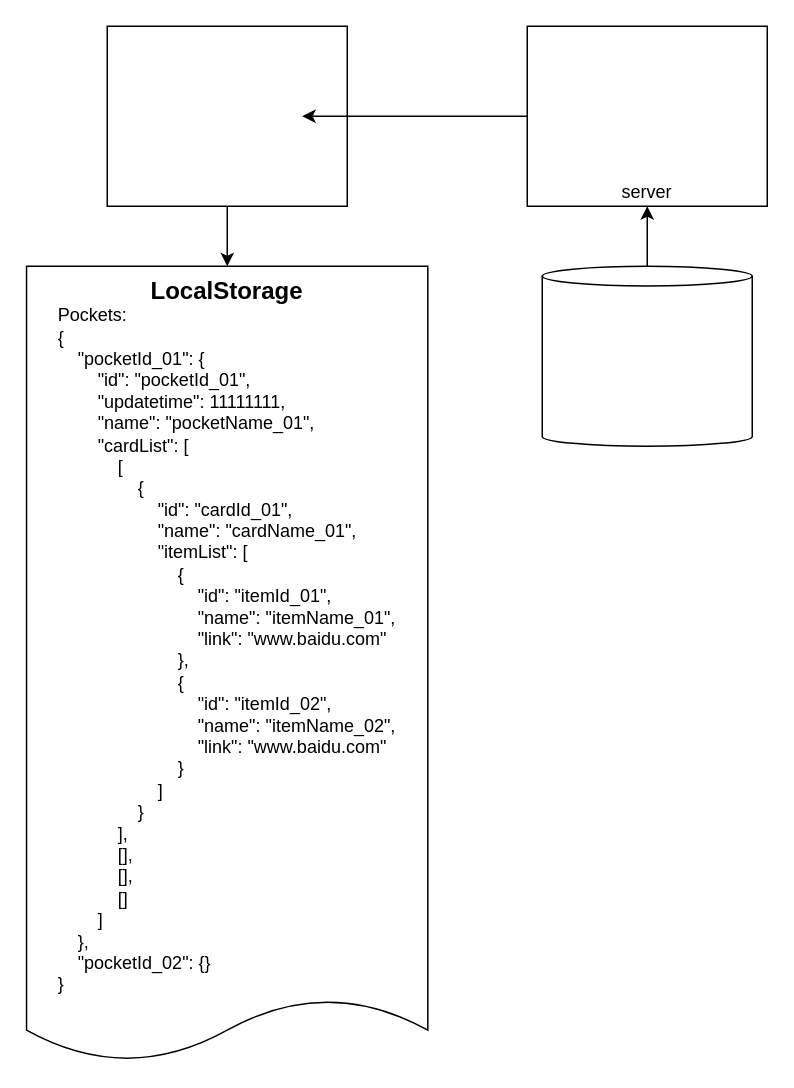
This 794x1088 diagram has some shape labels left out. Each missing label, with the centre of its shape:
browser: the point at 226,115
MySQL 1.对某个pocket中的pocket、card、item做任何的“ 增删改 ”操作，都更新此pocket的updatetime: the point at 646,355
